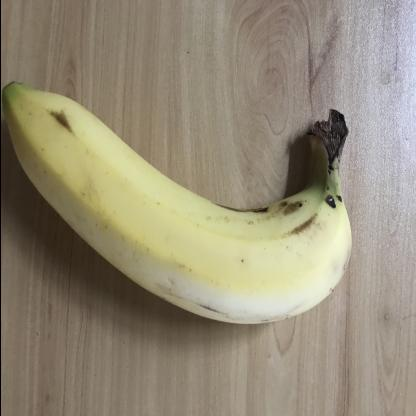banana: (0, 77, 365, 329)
